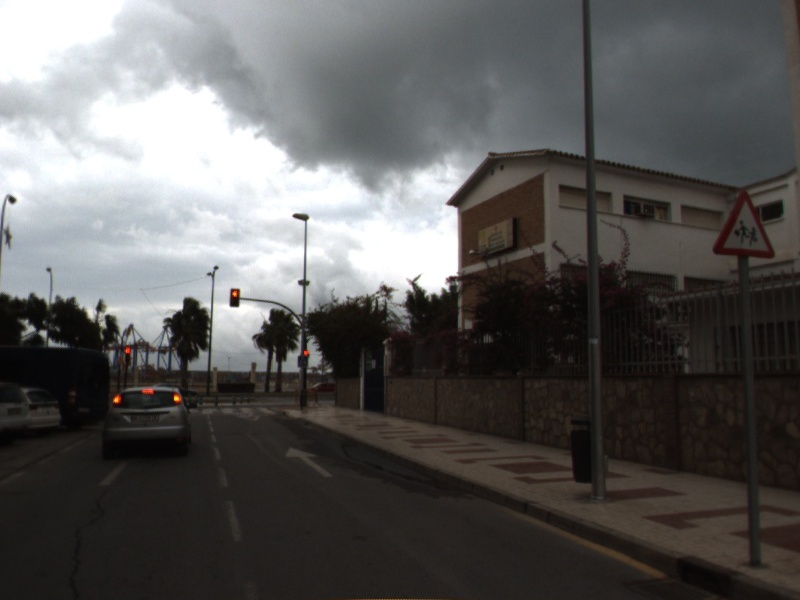STRAIGHT: (283, 444, 336, 480)
